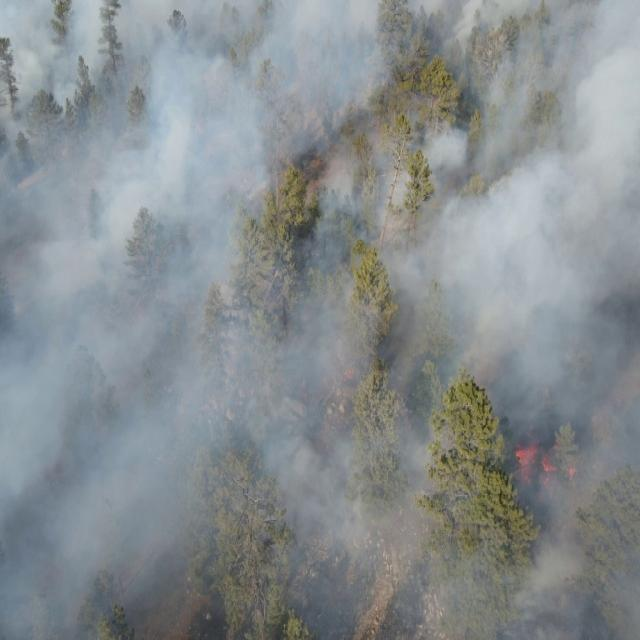fire: (515, 440, 560, 491), (342, 368, 358, 383), (565, 465, 579, 481)
smoke: (0, 3, 640, 521), (285, 521, 640, 640), (0, 520, 230, 640)
